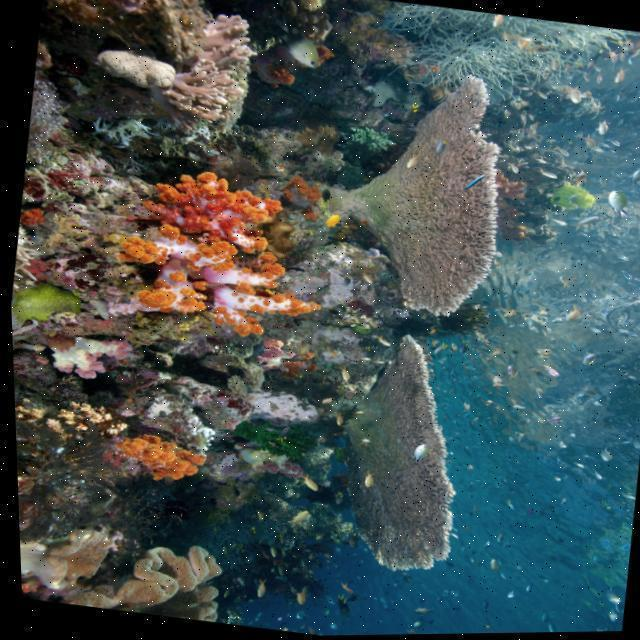Healthy Coral: (295, 318, 498, 590), (335, 69, 517, 329), (105, 151, 326, 347), (24, 520, 225, 626), (158, 3, 273, 144)
